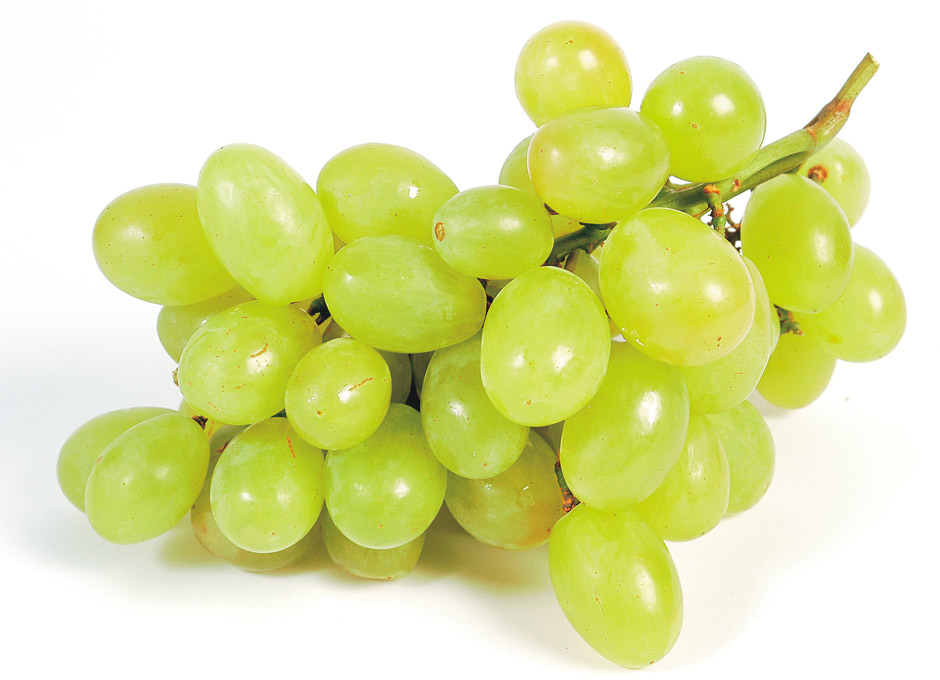Green grapes: (15, 23, 917, 655)
